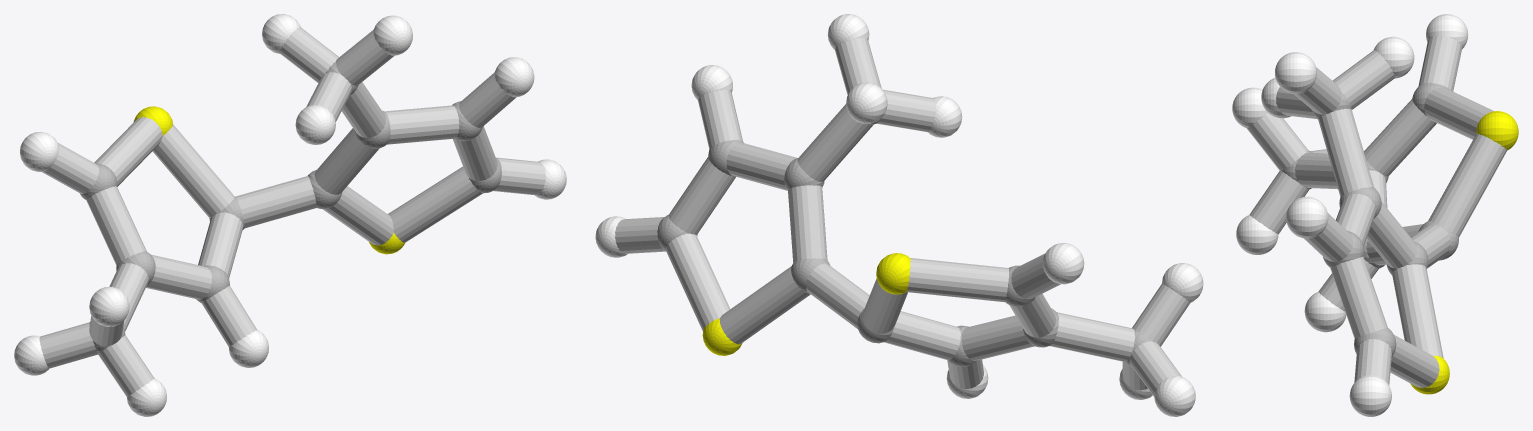
Rendered from Methylthiophene_Phi_40_Theta_70_Methylthiophene.glb.
3 views of the same model, side by side, from view 1: azimuth 30°, elevation 25°; view 2: azimuth 150°, elevation 25°; view 3: azimuth 270°, elevation 25° (orthographic). The views are drawn at different scales.
Visible parts, largest first — view 1: grp7965, grp3621, grp1, grp7241; view 2: grp7965, grp3621, grp1, grp7241; view 3: grp7965, grp3621, grp1, grp7241.
Part boxes in pixels (x1=…): grp7965: x1=39, y1=27, x2=545, y2=396; grp3621: x1=14, y1=14, x2=566, y2=416; grp1: x1=80, y1=61, x2=501, y2=352; grp7241: x1=133, y1=106, x2=404, y2=254; grp7965: x1=615, y1=37, x2=1190, y2=396; grp3621: x1=595, y1=14, x2=1203, y2=416; grp1: x1=657, y1=119, x2=1151, y2=366; grp7241: x1=702, y1=253, x2=910, y2=355; grp7965: x1=1246, y1=36, x2=1507, y2=387; grp3621: x1=1232, y1=14, x2=1468, y2=416; grp1: x1=1282, y1=82, x2=1458, y2=356; grp7241: x1=1410, y1=111, x2=1518, y2=394.
Size of the model in its own units: 9.64 by 5.37 by 4.07.
